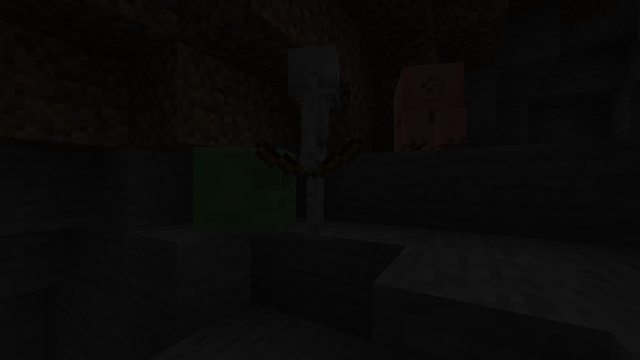cochons: (377, 56, 463, 154)
slimes: (190, 140, 267, 238)
squelettes: (277, 39, 349, 243)
